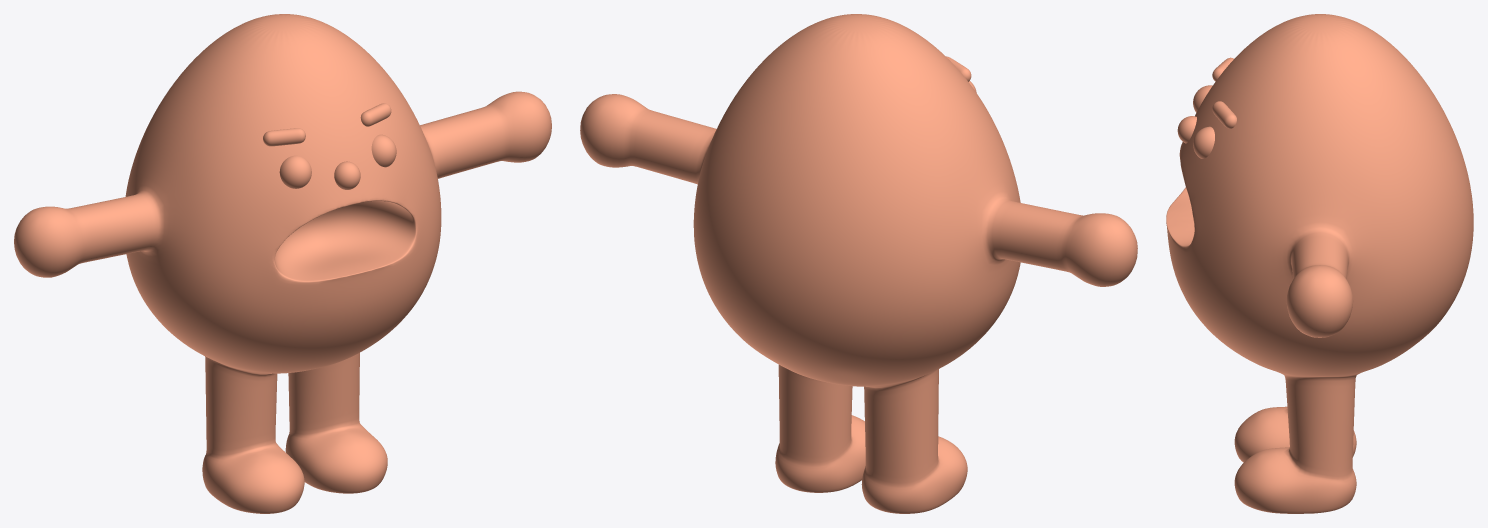
The model's file is eggCopper.glb.
The picture shows the model from 3 angles, left to right: view 1: azimuth 30°, elevation 25°; view 2: azimuth 150°, elevation 25°; view 3: azimuth 270°, elevation 25°; orthographic projection. The views are drawn at different scales.
Parts seen in each view (by area): view 1: COMPLETE egg; view 2: COMPLETE egg; view 3: COMPLETE egg.
Part boxes in pixels (x1,y1,x2,y2): COMPLETE egg: [14, 14, 551, 513]; COMPLETE egg: [580, 14, 1137, 513]; COMPLETE egg: [1166, 14, 1473, 513].
Bounding box in the file's own units: 4.15 × 3.38 × 2.07.
